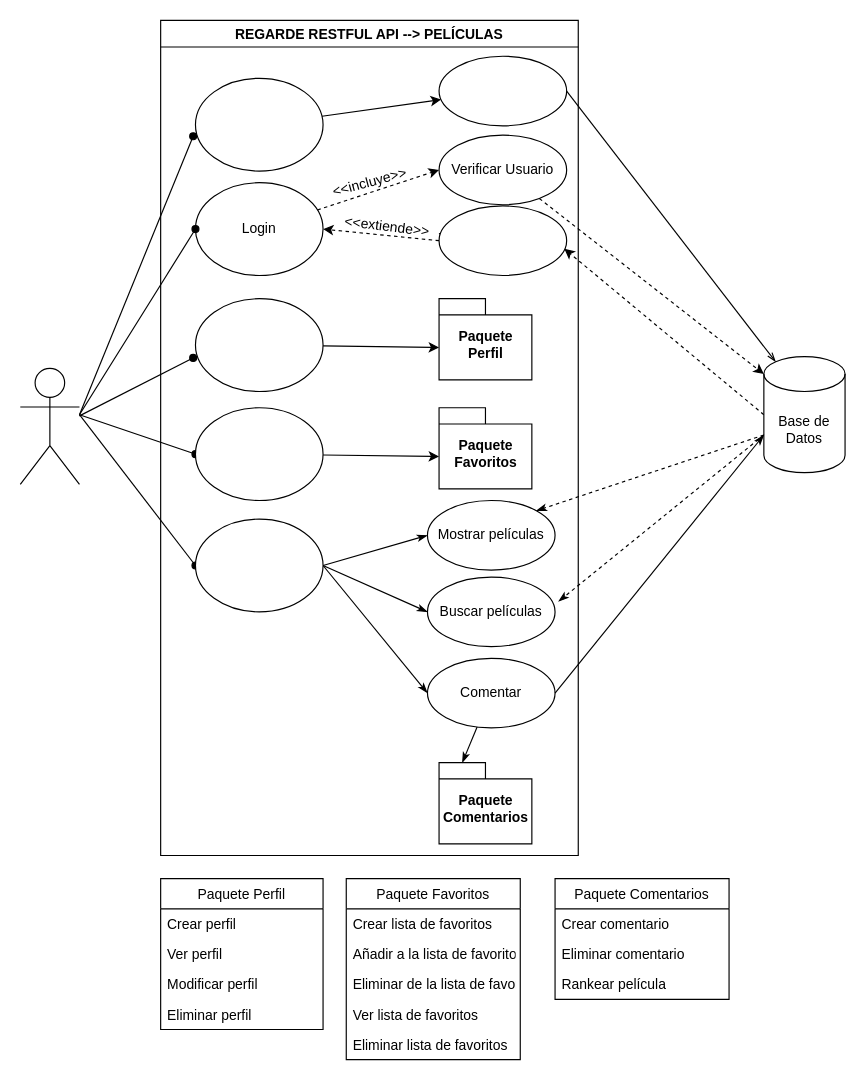
This 865x1083 diagram has some shape labels left out. Each missing label, with the centre of its shape:
"Crear Usuario y contraseña" goes at point (502, 90).
"Error de validación" goes at point (502, 240).
"Lista de Favoritos" goes at point (258, 454).
"Películas" goes at point (258, 565).
"Perfil" goes at point (258, 345).
"Registro" goes at point (258, 124).
"Usuario" goes at point (49, 425).
